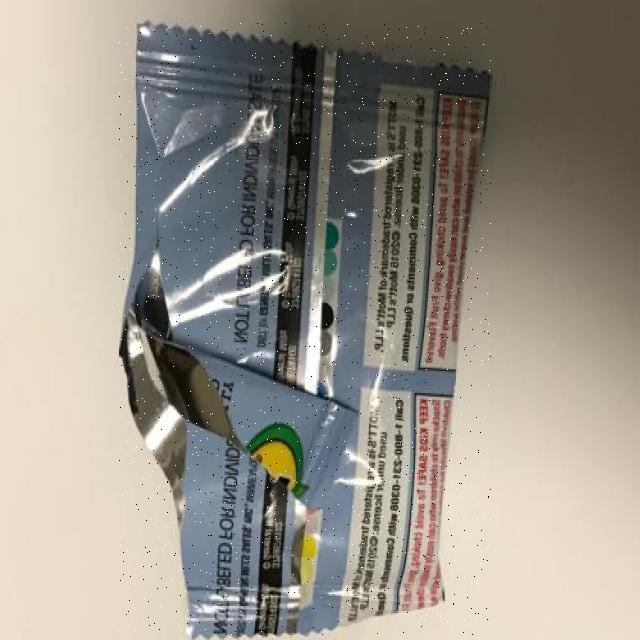wrapper: (120, 23, 491, 635)
